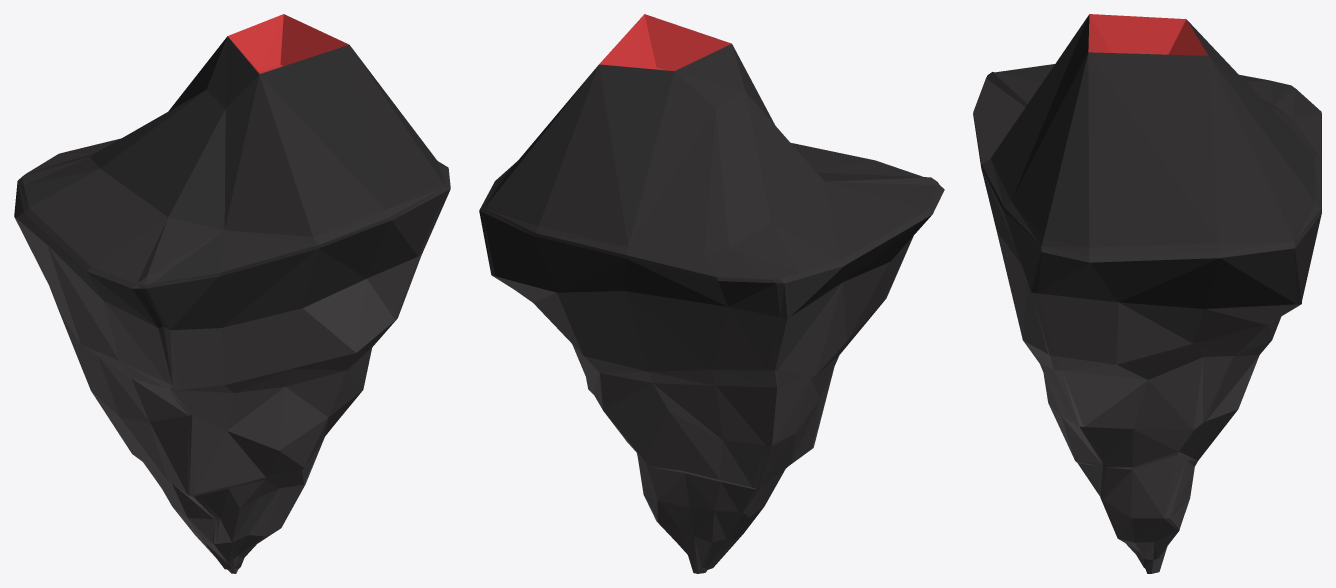
The model's file is island_volcan_01_vf.FBX.
The picture shows the model from 3 angles, left to right: view 1: azimuth 30°, elevation 25°; view 2: azimuth 150°, elevation 25°; view 3: azimuth 270°, elevation 25°; orthographic projection. The views are drawn at different scales.
Visible parts, largest first — view 1: Box001; view 2: Box001; view 3: Box001.
Part boxes in pixels (x1,y1,x2,y2): Box001: [14, 14, 450, 573]; Box001: [479, 14, 944, 573]; Box001: [973, 14, 1321, 573].
Bounding box in the file's own units: 11602 × 15498 × 8649.
Materials: 1 (1 with a texture image).
